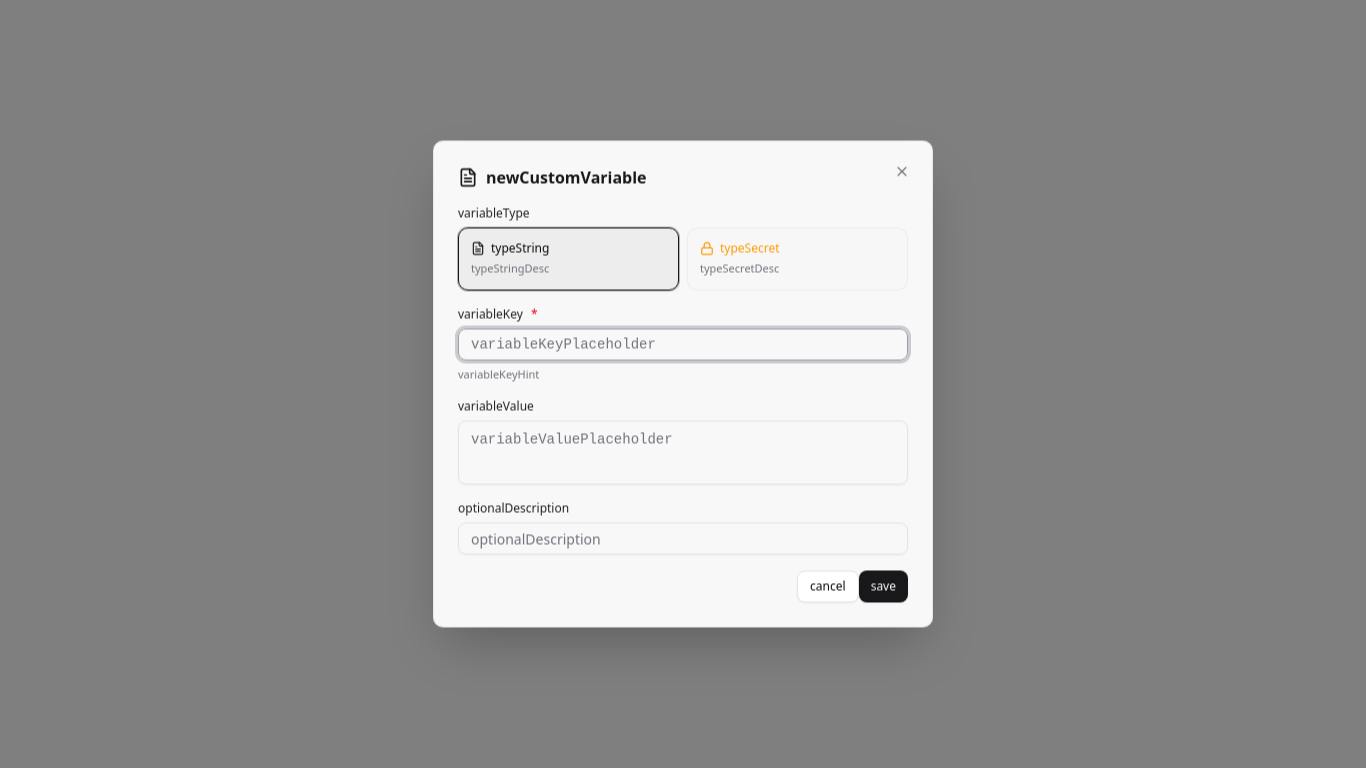
it: CustomVariableDialog › switches to secret mode and moves the security notice into a help hint
Click the text "typeSecret": (740, 248) [700,240,780,256]
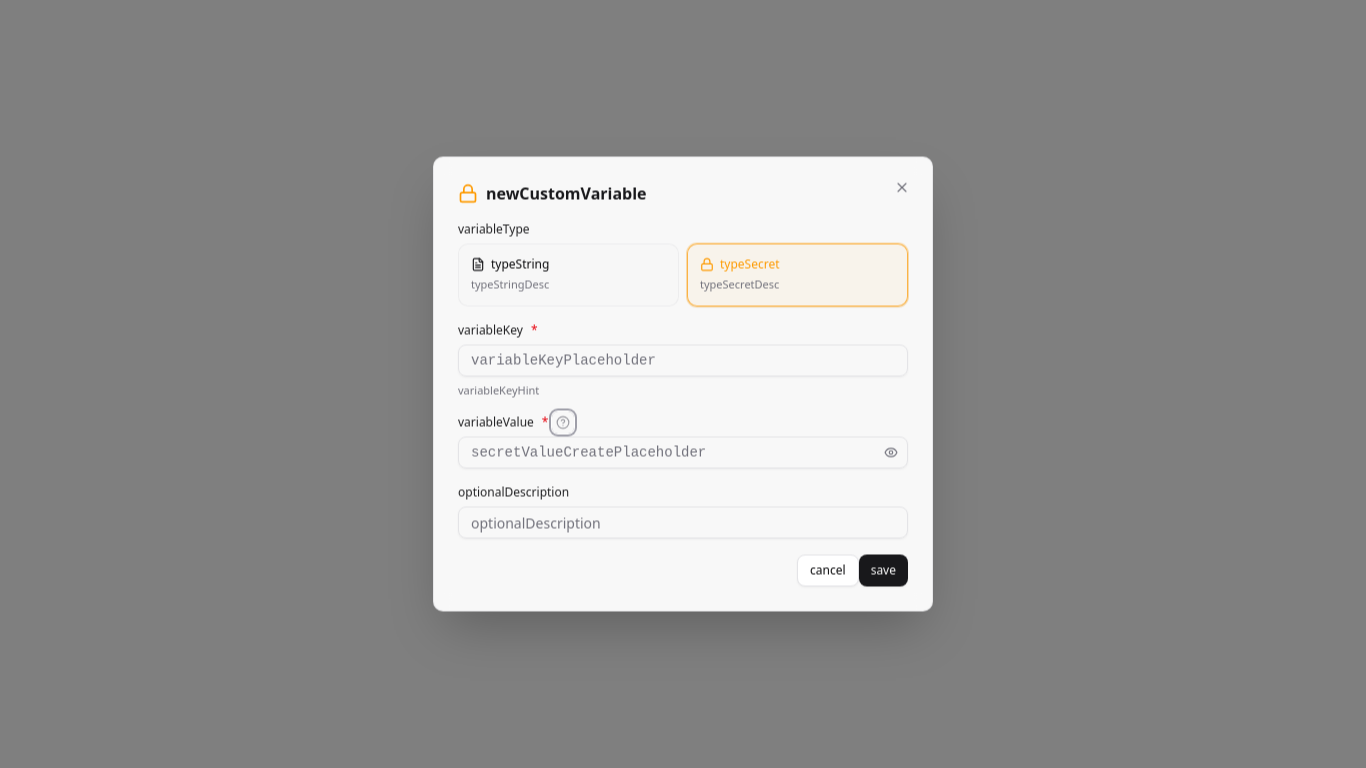
Expected: the text "secretProtectionNotice" is not shown
Focus the button with test id "custom-variable-value-secret-hint": (564, 422) [552,412,574,434]
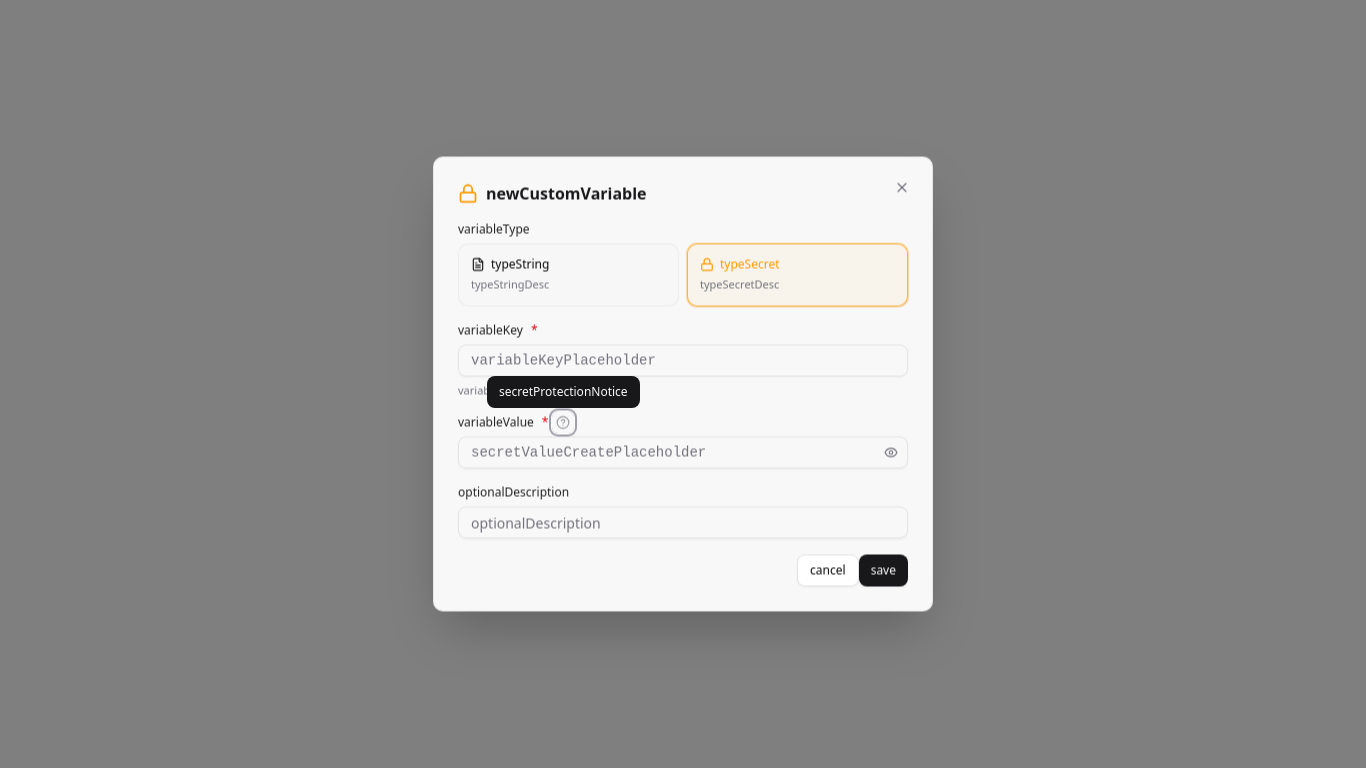
Now the password field with placeholder "secretValueCreatePlaceholder" is shown, box [458,436,908,468]
Now the tooltip reads "secretProtectionNotice", box [499,383,628,400]
